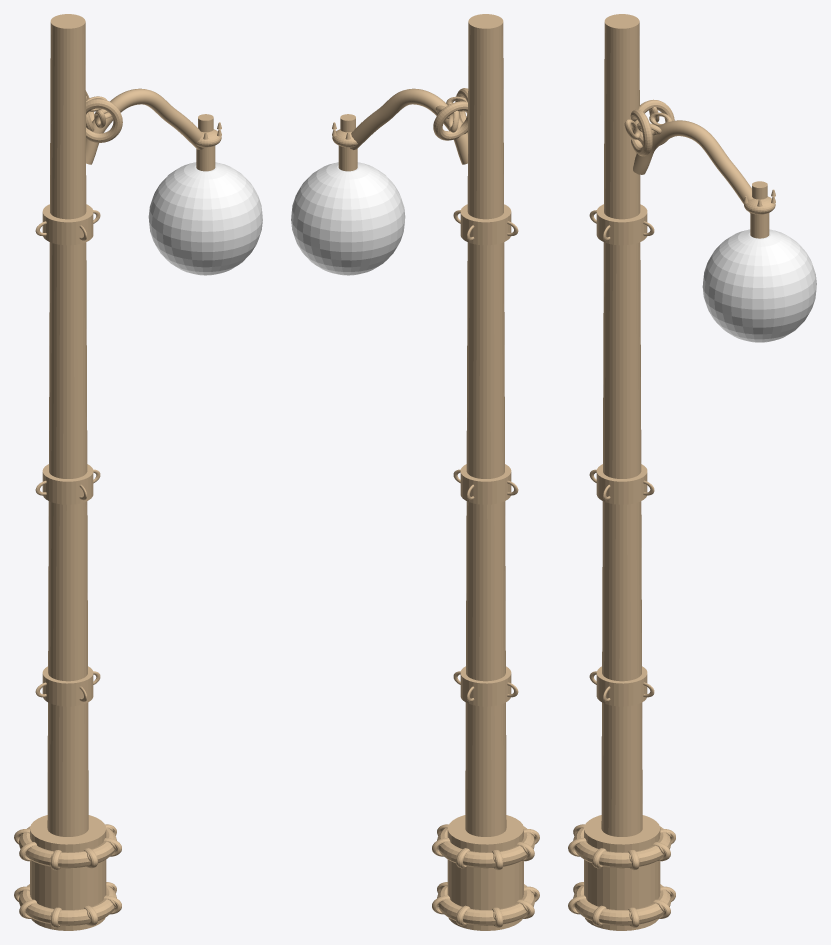
3 renders of one model, left to right at view 1: azimuth 30°, elevation 25°; view 2: azimuth 150°, elevation 25°; view 3: azimuth 330°, elevation 25°, orthographic.
Parts seen in each view (by area): view 1: MainPole, AmberGlassGlobe, Base, DecorativeArm, Cylinder.002, Torus.017, Torus, Cylinder.001, Cylinder, Torus.049; view 2: MainPole, AmberGlassGlobe, Base, DecorativeArm, Cylinder.002, Torus.017, Torus, Cylinder.001, Cylinder, Torus.046; view 3: MainPole, AmberGlassGlobe, Base, DecorativeArm, Cylinder.002, Torus, Torus.017, Cylinder.001, Cylinder, Torus.049.
Boxes of the visible parts, x1,y1,x2,y2 form: MainPole: [47, 14, 88, 836]; AmberGlassGlobe: [148, 162, 262, 275]; Base: [30, 815, 106, 930]; DecorativeArm: [86, 88, 203, 164]; Cylinder.002: [42, 204, 93, 245]; Torus.017: [19, 826, 116, 868]; Torus: [19, 884, 116, 925]; Cylinder.001: [42, 464, 93, 504]; Cylinder: [42, 666, 93, 706]; Torus.049: [86, 99, 122, 142]; MainPole: [465, 14, 506, 836]; AmberGlassGlobe: [291, 162, 405, 275]; Base: [447, 815, 523, 930]; DecorativeArm: [350, 88, 467, 164]; Cylinder.002: [460, 204, 511, 245]; Torus.017: [437, 826, 534, 868]; Torus: [437, 884, 534, 925]; Cylinder.001: [460, 464, 511, 504]; Cylinder: [460, 666, 511, 706]; Torus.046: [433, 101, 467, 140]; MainPole: [601, 14, 642, 836]; AmberGlassGlobe: [702, 229, 816, 342]; Base: [584, 815, 660, 930]; DecorativeArm: [633, 120, 753, 213]; Cylinder.002: [596, 204, 647, 245]; Torus: [573, 884, 671, 925]; Torus.017: [573, 826, 671, 868]; Cylinder.001: [596, 464, 647, 504]; Cylinder: [596, 666, 647, 706]; Torus.049: [630, 109, 652, 156].
Size of the model in its own units: 0.8556 by 3.1 by 0.36.
